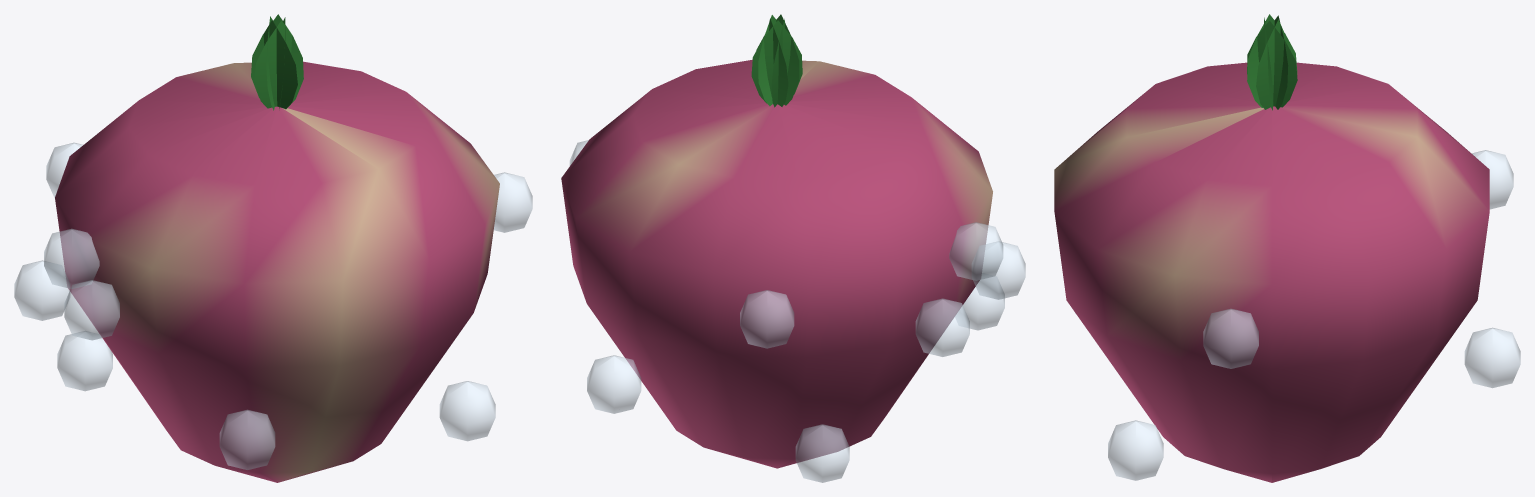
File: fruit-cactus-wet.gltf
3 renders of one model, left to right at view 1: azimuth 30°, elevation 25°; view 2: azimuth 150°, elevation 25°; view 3: azimuth 270°, elevation 25°, orthographic. The views are drawn at different scales.
Bounding box in the file's own units: 0.4369 × 0.4142 × 0.3758.
